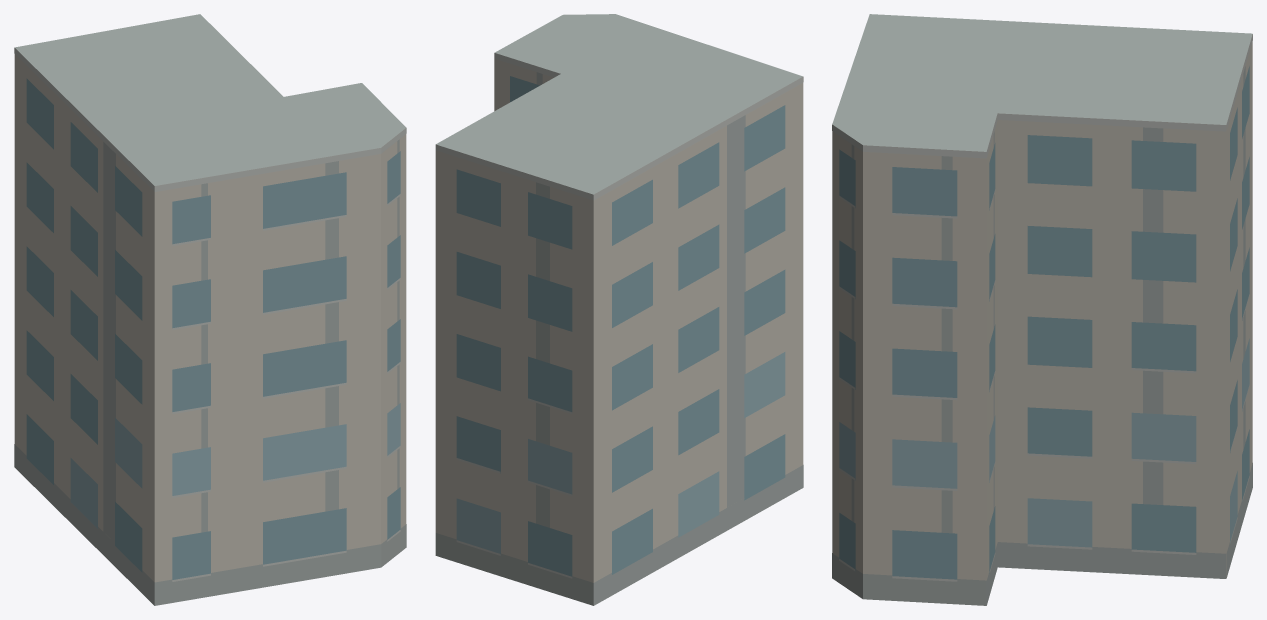
File: survey-upis-32801597.glb
3 views of the same model, side by side, from view 1: azimuth 30°, elevation 25°; view 2: azimuth 150°, elevation 25°; view 3: azimuth 270°, elevation 25° (orthographic). The views are drawn at different scales.
Parts seen in each view (by area): view 1: survey-upis-32801597.tmp; view 2: survey-upis-32801597.tmp; view 3: survey-upis-32801597.tmp.
Part boxes in pixels (x1,y1,x2,y2): survey-upis-32801597.tmp: (14, 14, 406, 605); survey-upis-32801597.tmp: (435, 14, 803, 605); survey-upis-32801597.tmp: (832, 14, 1252, 605).
Size of the model in its own units: 10.99 by 16.85 by 14.16.
